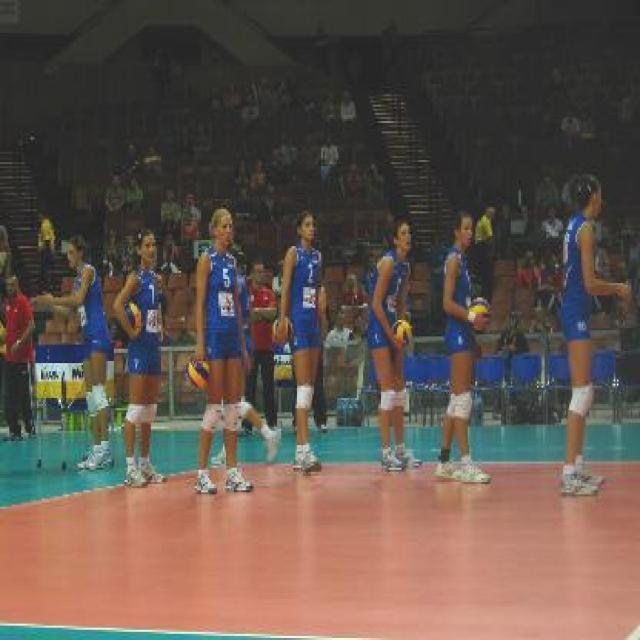volleyball: (184, 353, 210, 387), (391, 321, 414, 346), (272, 318, 294, 344), (124, 302, 144, 330), (469, 298, 491, 313)
